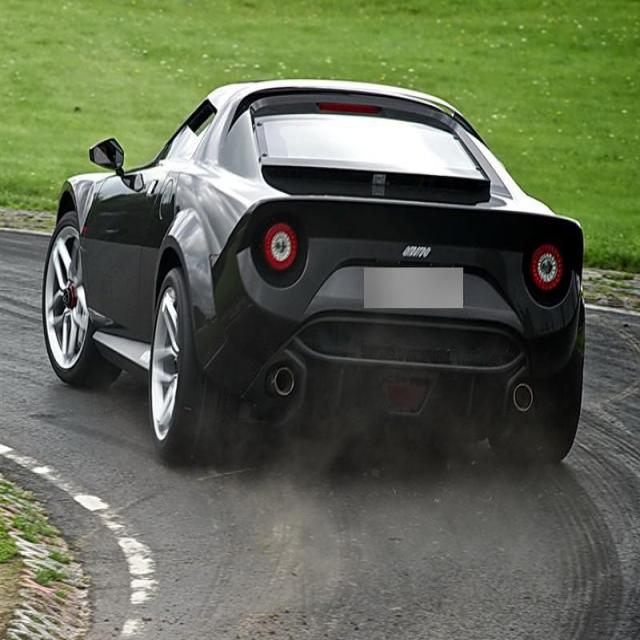back_glass: (246, 102, 491, 190)
back_left_side_light: (251, 211, 303, 286)
back_right_side_light: (522, 237, 570, 301)
front_left_side_door: (70, 115, 171, 336)
front_left_side_mirror: (88, 132, 129, 178)
rear_bumper: (190, 263, 584, 414)
wheel: (147, 270, 227, 470), (42, 213, 112, 385), (498, 336, 584, 462)
